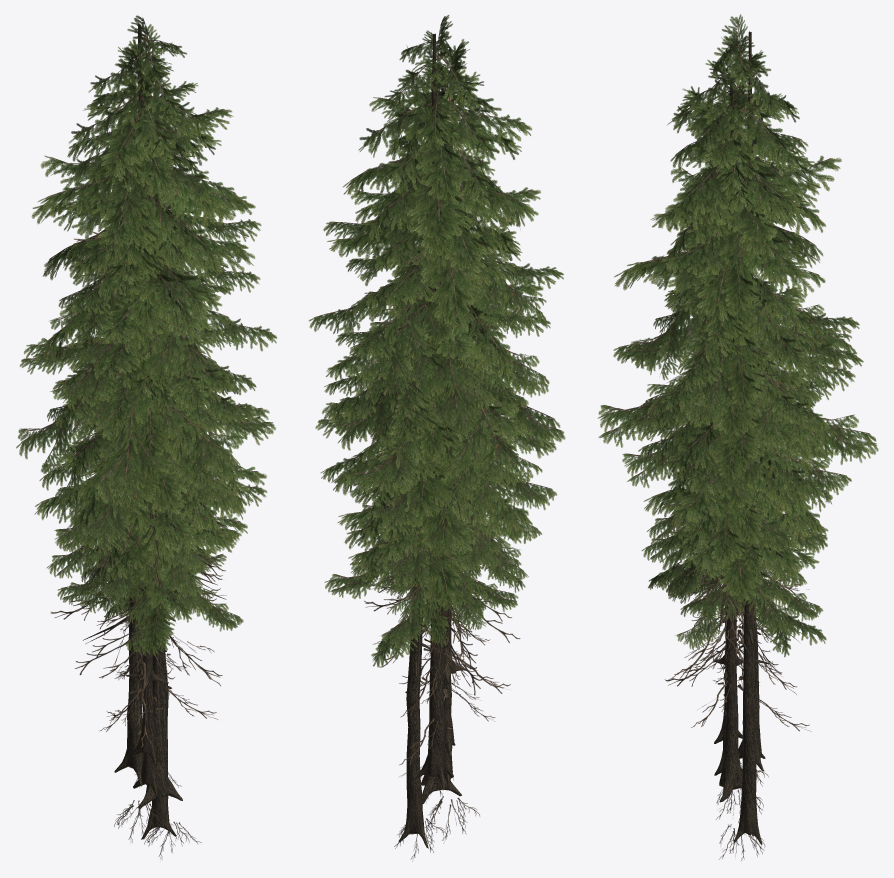
The model's file is pine_trees.glb.
3 renders of one model, left to right at view 1: azimuth 30°, elevation 25°; view 2: azimuth 150°, elevation 25°; view 3: azimuth 270°, elevation 25°, orthographic.
Visible parts, largest first — view 1: SM_Pine02, SM_Pine01, SM_Pine03, SM_PineMedium01, SM_PineMedium02, SM_PineDead01, SM_PineDead02; view 2: SM_Pine02, SM_Pine01, SM_Pine03, SM_PineMedium01, SM_PineMedium02, SM_PineDead01, SM_PineDead02; view 3: SM_Pine01, SM_Pine02, SM_Pine03, SM_PineMedium01, SM_PineMedium02, SM_PineDead01, SM_PineDead02.
Boxes of the visible parts, box(x1,y1,x2,y2) form: SM_Pine02: box(16, 40, 275, 842); SM_Pine01: box(37, 15, 276, 859); SM_Pine03: box(35, 73, 267, 787); SM_PineMedium01: box(55, 195, 266, 690); SM_PineMedium02: box(76, 320, 233, 621); SM_PineDead01: box(57, 184, 237, 765); SM_PineDead02: box(50, 89, 226, 796); SM_Pine02: box(315, 39, 565, 843); SM_Pine01: box(309, 15, 563, 859); SM_Pine03: box(320, 70, 543, 801); SM_PineMedium01: box(331, 273, 523, 681); SM_PineMedium02: box(357, 284, 517, 615); SM_PineDead01: box(358, 115, 525, 757); SM_PineDead02: box(364, 89, 520, 788); SM_Pine01: box(613, 14, 863, 860); SM_Pine02: box(597, 32, 878, 821); SM_Pine03: box(617, 80, 859, 794); SM_PineMedium01: box(644, 211, 833, 680); SM_PineMedium02: box(653, 280, 823, 622); SM_PineDead01: box(648, 120, 826, 743); SM_PineDead02: box(662, 86, 813, 775).
Size of what is drawn, in the model's own units: 247959 by 874516 by 269693.
Materials: 3 (3 with a texture image).
